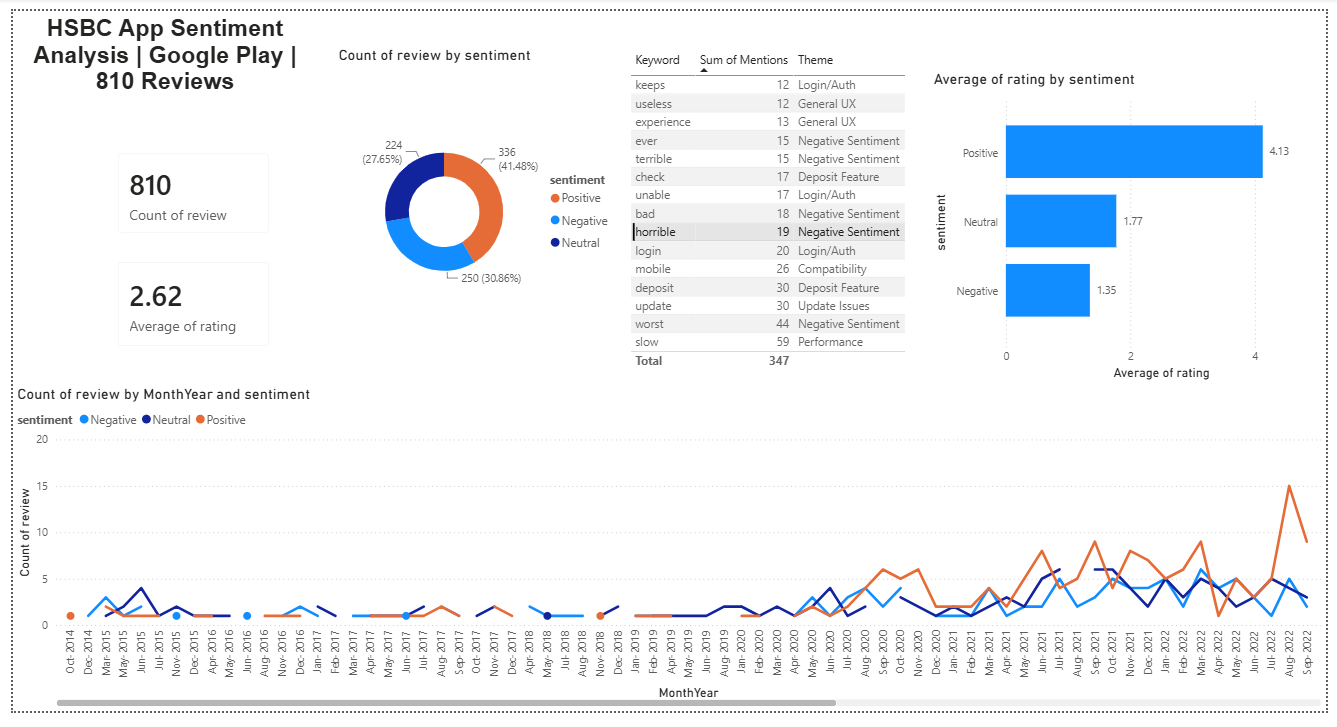

What the dashboard file says about the page in this screenshot:
{"tool":"powerbi","page":{"name":"Page 1","canvas":[1500,800],"ordinal":0},"visuals":[{"type":"cardVisual","fields":{"Data":["CountNonNull(hsbc_sentiment_reviews.review)"]},"box":[102.5,145,207.5,125],"z":0},{"type":"cardVisual","fields":{"Data":["Avg(hsbc_sentiment_reviews.rating)"]},"box":[102.5,270,207.5,130],"z":1},{"type":"donutChart","fields":{"Category":["hsbc_sentiment_reviews.sentiment"],"Y":["CountNonNull(hsbc_sentiment_reviews.review)"]},"box":[367.5,40,332.5,360],"z":2},{"type":"lineChart","fields":{"Category":["hsbc_sentiment_reviews.MonthYear"],"Y":["CountNonNull(hsbc_sentiment_reviews.review)"],"Series":["hsbc_sentiment_reviews.sentiment"]},"box":[0,427.5,1500,372.5],"z":3},{"type":"clusteredBarChart","fields":{"Category":["hsbc_sentiment_reviews.sentiment"],"Y":["Avg(hsbc_sentiment_reviews.rating)"]},"box":[1047.5,67.5,452.5,360],"z":4},{"type":"tableEx","fields":{"Values":["hsbc_top_complaints.Keyword","Sum(hsbc_top_complaints.Mentions)","hsbc_top_complaints.Theme"]},"box":[700,40,347.5,395],"z":5},{"type":"textbox","box":[0,0,347.5,115],"z":6}]}

Visuals, with their boxes in screenshot pixels (x1, y1, x2, y2), scaled from the page's 1500x800 canvas onto the 1337x727 screenshot:
cardVisual - CountNonNull(hsbc_sentiment_reviews.review): (91,132,276,245)
cardVisual - Avg(hsbc_sentiment_reviews.rating): (91,245,276,364)
donutChart - hsbc_sentiment_reviews.sentiment x CountNonNull(hsbc_sentiment_reviews.review): (328,36,624,364)
lineChart - hsbc_sentiment_reviews.MonthYear x CountNonNull(hsbc_sentiment_reviews.review): (0,388,1336,726)
clusteredBarChart - hsbc_sentiment_reviews.sentiment x Avg(hsbc_sentiment_reviews.rating): (934,61,1336,388)
tableEx - hsbc_top_complaints.Keyword x Sum(hsbc_top_complaints.Mentions): (624,36,934,395)
textbox: (0,0,310,105)
